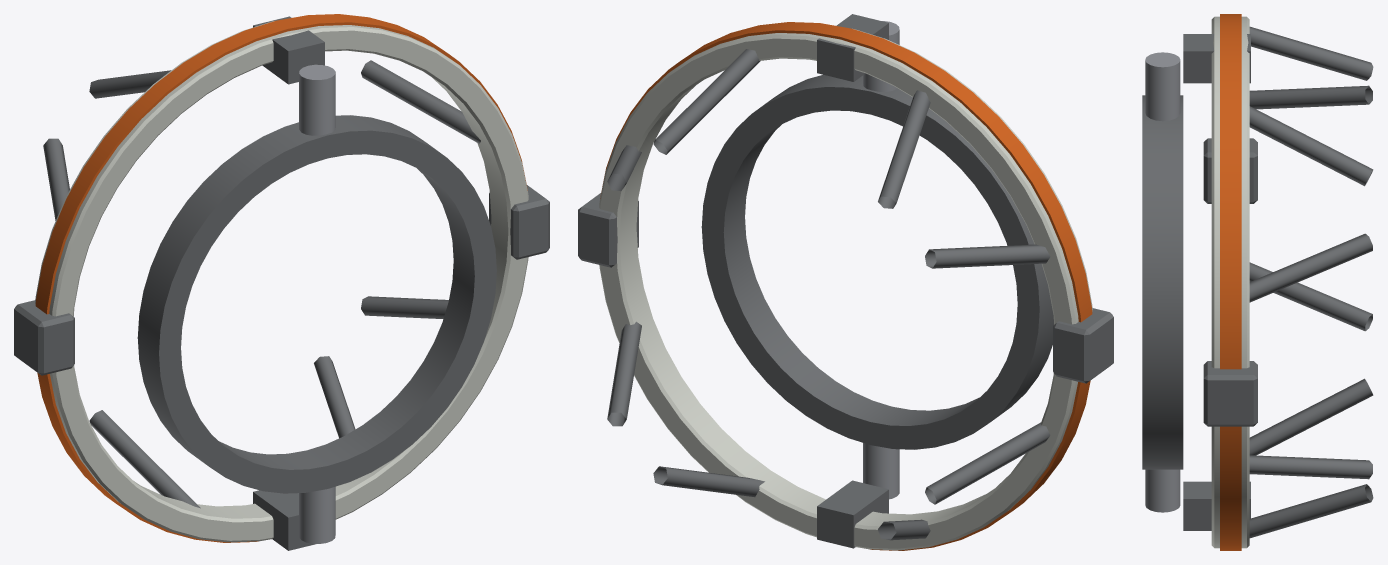
Rendered from u65m_interstage.obj.
The picture shows the model from 3 angles, left to right: view 1: azimuth 30°, elevation 25°; view 2: azimuth 150°, elevation 25°; view 3: azimuth 270°, elevation 25°; orthographic projection. The views are drawn at different scales.
Visible parts, largest first — view 1: u65m_interstage; view 2: u65m_interstage; view 3: u65m_interstage.
Part boxes in pixels (x1=…): u65m_interstage: x1=14, y1=14, x2=549, y2=550; u65m_interstage: x1=578, y1=14, x2=1113, y2=550; u65m_interstage: x1=1142, y1=14, x2=1373, y2=550.
Bounding box in the file's own units: 4.18 × 3.96 × 1.7.
